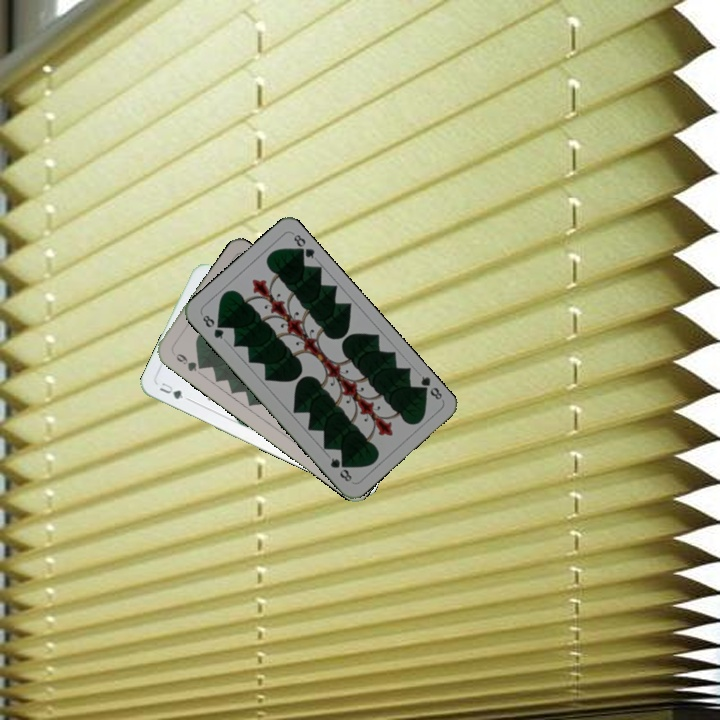G8: (414, 372, 445, 402), (198, 311, 226, 342)
G9: (168, 347, 206, 374)
GU: (155, 378, 187, 402)
